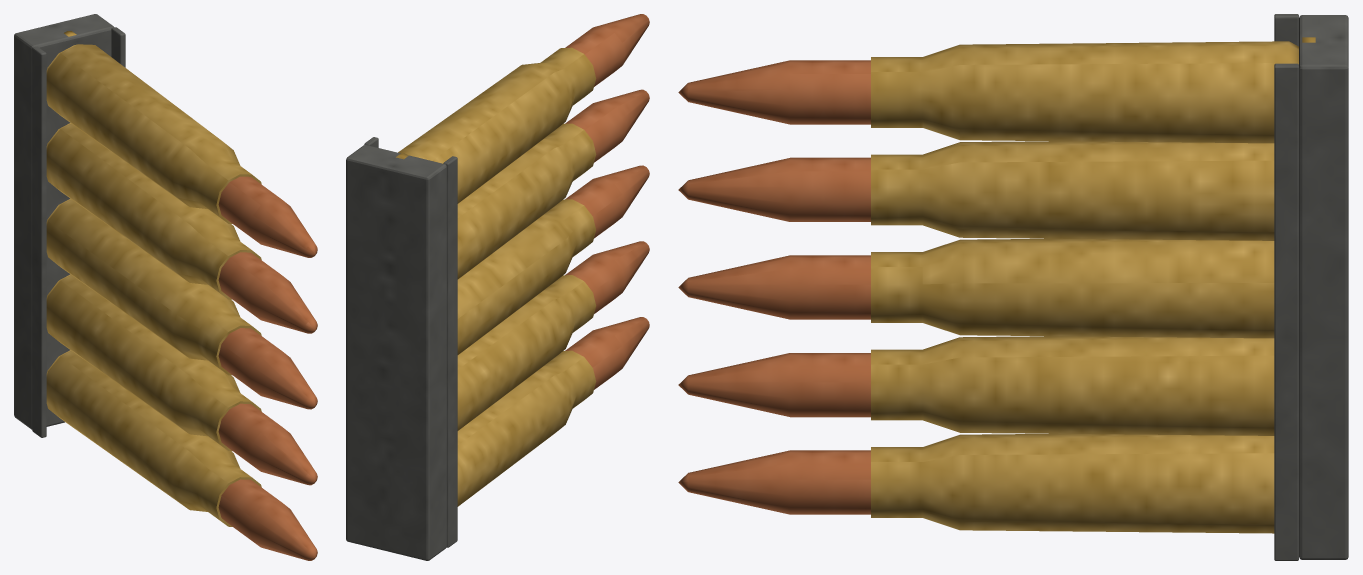
Rendered from clip_mosin.glb.
3 views of the same model, side by side, from view 1: azimuth 30°, elevation 25°; view 2: azimuth 150°, elevation 25°; view 3: azimuth 270°, elevation 25° (orthographic). The views are drawn at different scales.
Visible parts, largest first — view 1: clip_mosin; view 2: clip_mosin; view 3: clip_mosin.
Part boxes in pixels (left/top/right/bottom): clip_mosin: left=14, top=14, right=317, bottom=560; clip_mosin: left=346, top=14, right=649, bottom=560; clip_mosin: left=678, top=14, right=1348, bottom=560.
Bounding box in the file's own units: 0.0152 × 0.0664 × 0.081.
3 materials, 3 textured.
